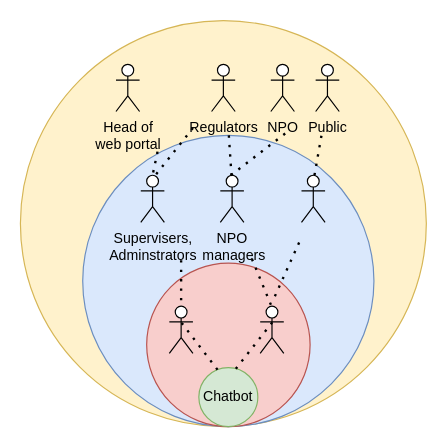
This 447x447 diagram has some shape labels left out. Each missing label, with the box of its shape:
IT staff: (168, 305, 193, 353)
Users: (259, 305, 284, 353)
Volunteers: (300, 174, 325, 222)
